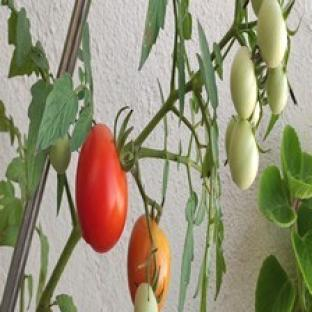Tomato: (76, 124, 128, 252), (127, 215, 171, 310), (229, 120, 259, 189), (230, 46, 257, 118), (267, 66, 289, 114), (49, 136, 71, 174), (134, 283, 158, 311), (226, 117, 236, 157), (250, 102, 260, 126)
